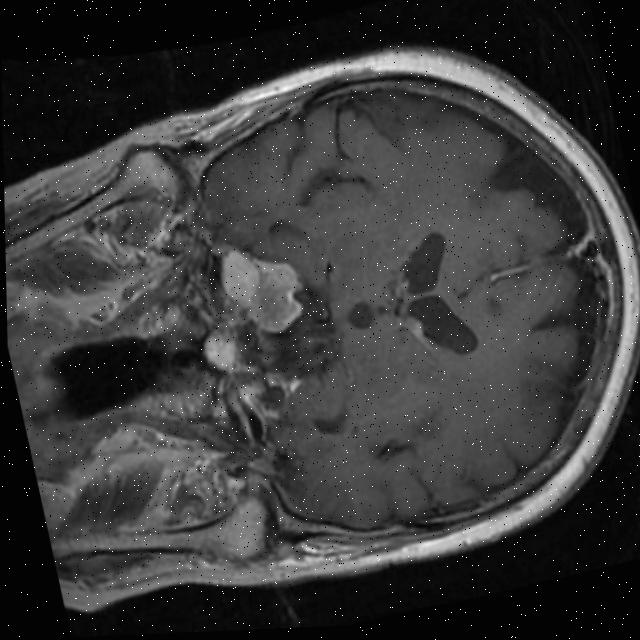Meningioma: (211, 231, 314, 347)
Pituitary: (200, 328, 242, 376)
